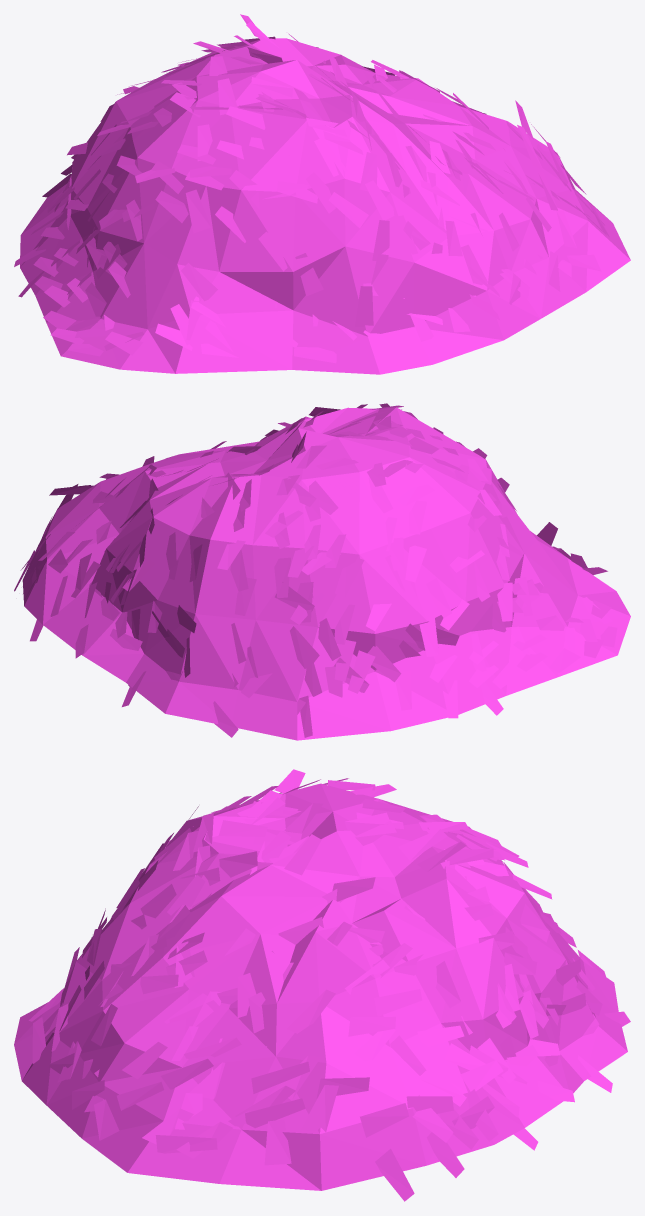
File: SM_Compost_Pile_Large_Fantasy.fbx
3 views of the same model, one above another, from view 1: azimuth 30°, elevation 25°; view 2: azimuth 150°, elevation 25°; view 3: azimuth 270°, elevation 25° (orthographic). The views are drawn at different scales.
Visible parts, largest first — view 1: SM_Compost_Pile_Large_Fantasy; view 2: SM_Compost_Pile_Large_Fantasy; view 3: SM_Compost_Pile_Large_Fantasy.
Part boxes in pixels (<box>): SM_Compost_Pile_Large_Fantasy: <box>14,14,630,374</box>; SM_Compost_Pile_Large_Fantasy: <box>14,403,630,740</box>; SM_Compost_Pile_Large_Fantasy: <box>14,769,630,1201</box>.
Bounding box in the file's own units: 3.18 × 1.18 × 2.77.
